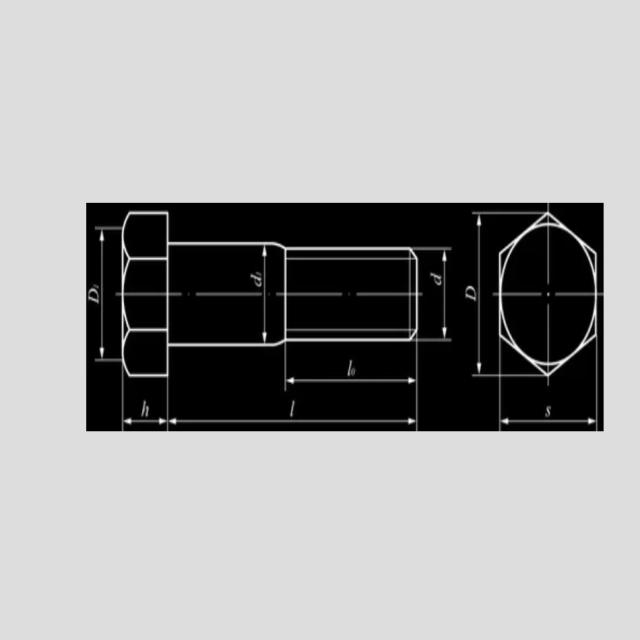marking_line: (170, 416, 416, 427), (475, 213, 486, 376), (98, 231, 109, 358), (501, 416, 595, 427), (287, 378, 415, 386), (259, 246, 268, 342), (441, 250, 449, 337), (123, 419, 167, 426)
